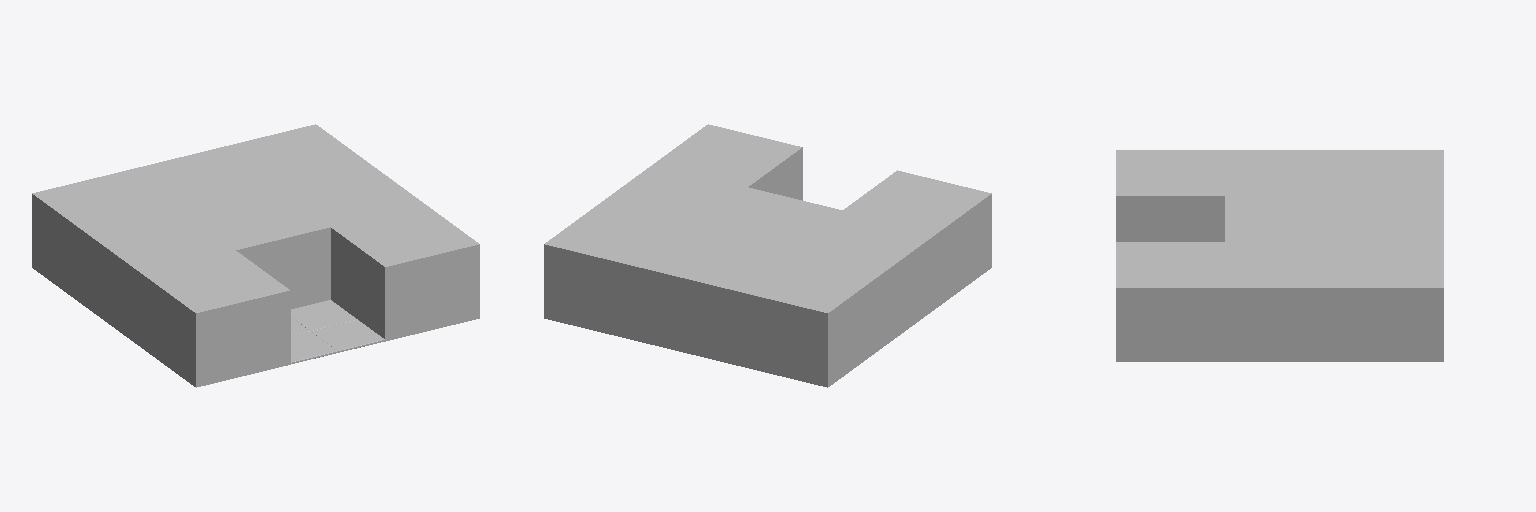
The model's file is Corredor_Sin salida_tipo A_1.obj.
3 views of the same model, side by side, from view 1: azimuth 30°, elevation 25°; view 2: azimuth 150°, elevation 25°; view 3: azimuth 270°, elevation 25° (orthographic).
Visible parts, largest first — view 1: polySurface17, Start_piso22 polySurface9, Start_piso22 polySurface18, Start_piso22 polySurface19; view 2: polySurface17; view 3: polySurface17.
Part boxes in pixels (x1,y1,x2,y2): polySurface17: (32,124,479,387); Start_piso22 polySurface9: (311,320,384,352); Start_piso22 polySurface18: (291,300,357,330); Start_piso22 polySurface19: (291,331,337,363); polySurface17: (544,124,991,387); polySurface17: (1116,150,1443,361).
Size of the model in its own units: 144 by 36 by 144.